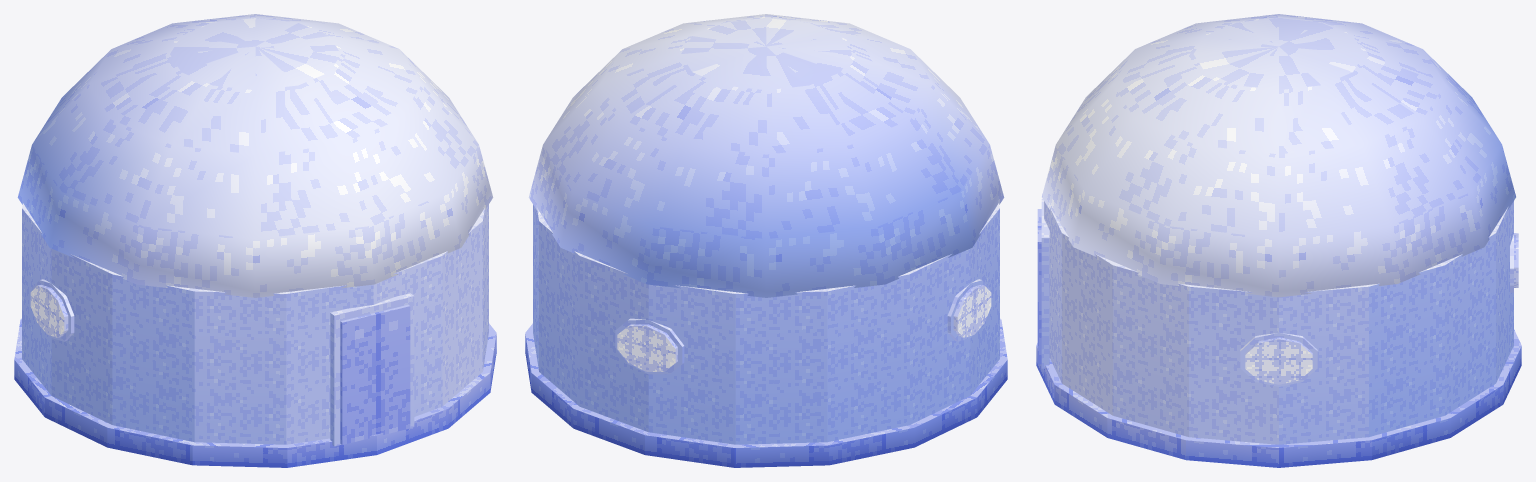
File: arch.house.glb
3 renders of one model, left to right at view 1: azimuth 30°, elevation 25°; view 2: azimuth 150°, elevation 25°; view 3: azimuth 270°, elevation 25°, orthographic.
Parts seen in each view (by area): view 1: kit_house_roof, kit_house_walls, kit_house_detail, kit_house_windows; view 2: kit_house_roof, kit_house_walls, kit_house_windows, kit_house_detail; view 3: kit_house_roof, kit_house_walls, kit_house_detail, kit_house_windows.
Part boxes in pixels (x1,y1,x2,y2): kit_house_roof: (17,14,493,297); kit_house_walls: (14,203,496,467); kit_house_detail: (32,279,414,446); kit_house_windows: (30,284,68,337); kit_house_roof: (528,14,1004,297); kit_house_walls: (525,203,1007,467); kit_house_windows: (617,284,991,371); kit_house_detail: (615,279,989,374); kit_house_roof: (1042,14,1515,297); kit_house_walls: (1036,201,1521,467); kit_house_detail: (1037,199,1513,386); kit_house_windows: (1245,233,1518,384).
Size of the model in its own units: 6.2 by 4.49 by 6.2.
Materials: 6 (6 with a texture image).
